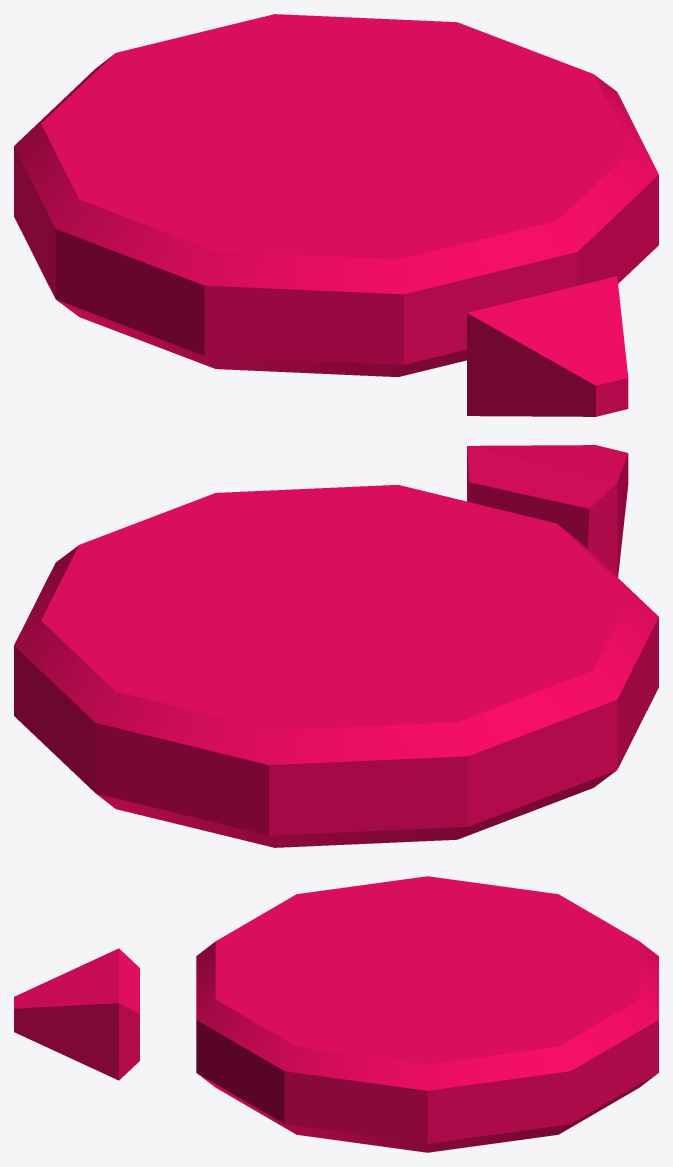
Rendered from Point1P.fbx.
3 renders of one model, top to bottom at view 1: azimuth 30°, elevation 25°; view 2: azimuth 150°, elevation 25°; view 3: azimuth 270°, elevation 25°, orthographic. The views are drawn at different scales.
Visible parts, largest first — view 1: pCylinder1; view 2: pCylinder1; view 3: pCylinder1.
Boxes of the visible parts, <box> form: pCylinder1: <box>14,14,658,416</box>; pCylinder1: <box>14,445,658,847</box>; pCylinder1: <box>14,876,658,1152</box>.
Bounding box in the file's own units: 100 × 20 × 133.
